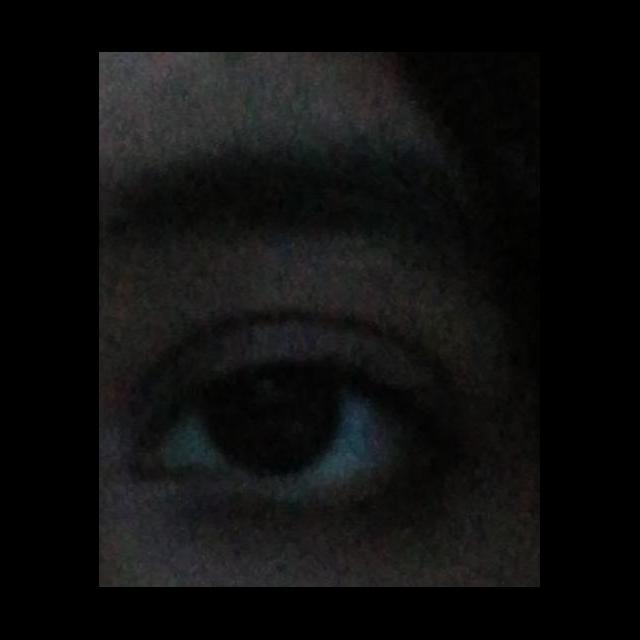eye: (161, 370, 419, 488)
iris: (202, 379, 345, 477)
